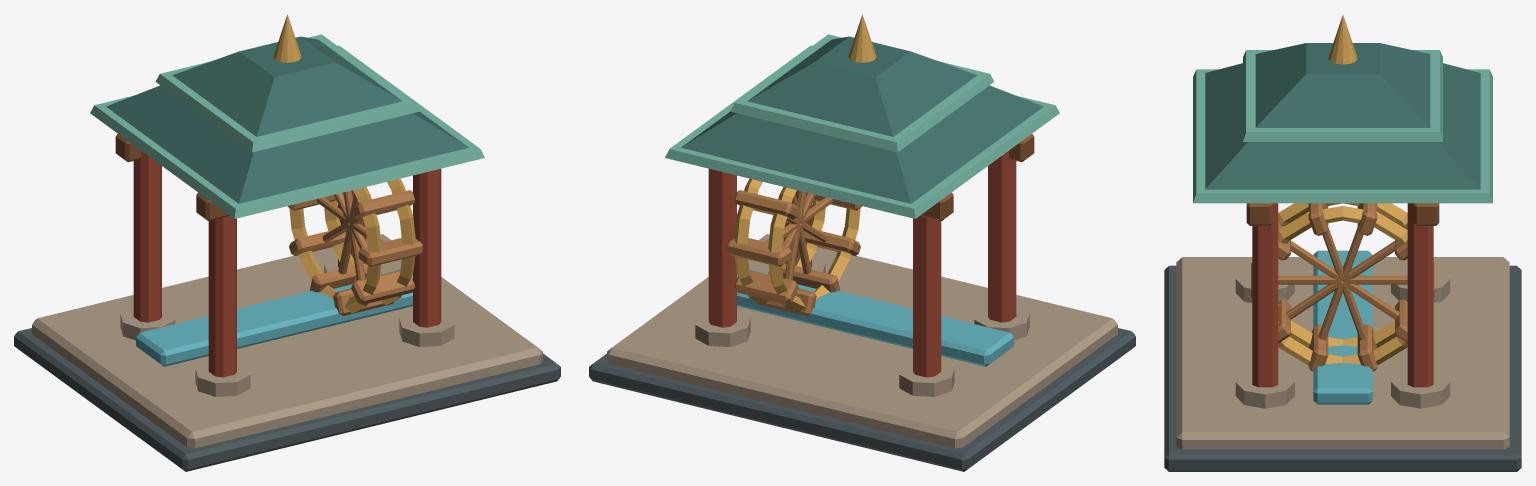
File: terraces.glb
3 views of the same model, side by side, from view 1: azimuth 30°, elevation 25°; view 2: azimuth 150°, elevation 25°; view 3: azimuth 270°, elevation 25° (orthographic). The views are drawn at different scales.
Visible parts, largest first — view 1: terraces-stone, terraces-jade, terraces-roof, terraces-slate, terraces-teal, terraces-oak, terraces-water, terraces-brass.001, terraces-wood, terraces-brass; view 2: terraces-stone, terraces-jade, terraces-roof, terraces-slate, terraces-teal, terraces-oak, terraces-water, terraces-brass.001, terraces-wood, terraces-brass; view 3: terraces-stone, terraces-jade, terraces-slate, terraces-teal, terraces-roof, terraces-oak, terraces-water, terraces-brass.001, terraces-wood, terraces-brass.
Boxes of the visible parts, bbox=[...] form: terraces-stone: bbox=[32, 234, 542, 448]; terraces-jade: bbox=[106, 36, 468, 203]; terraces-roof: bbox=[133, 151, 441, 377]; terraces-slate: bbox=[14, 328, 560, 471]; terraces-teal: bbox=[90, 34, 484, 218]; terraces-oak: bbox=[287, 190, 422, 315]; terraces-water: bbox=[136, 269, 412, 366]; terraces-brass.001: bbox=[289, 178, 415, 313]; terraces-wood: bbox=[115, 134, 229, 220]; terraces-brass: bbox=[273, 14, 301, 62]; terraces-stone: bbox=[607, 234, 1117, 448]; terraces-jade: bbox=[681, 36, 1043, 203]; terraces-roof: bbox=[708, 151, 1016, 377]; terraces-slate: bbox=[589, 328, 1135, 471]; terraces-teal: bbox=[665, 34, 1059, 218]; terraces-oak: bbox=[727, 190, 862, 315]; terraces-water: bbox=[737, 269, 1013, 366]; terraces-brass.001: bbox=[734, 178, 860, 313]; terraces-wood: bbox=[920, 134, 1034, 220]; terraces-brass: bbox=[848, 14, 876, 62]; terraces-stone: bbox=[1176, 257, 1509, 449]; terraces-jade: bbox=[1205, 43, 1480, 189]; terraces-slate: bbox=[1164, 265, 1521, 471]; terraces-teal: bbox=[1193, 50, 1492, 203]; terraces-roof: bbox=[1252, 203, 1433, 387]; terraces-oak: bbox=[1251, 203, 1434, 371]; terraces-water: bbox=[1313, 250, 1372, 404]; terraces-brass.001: bbox=[1278, 203, 1407, 365]; terraces-wood: bbox=[1246, 203, 1439, 225]; terraces-brass: bbox=[1328, 15, 1357, 64].
Size of the model in its own units: 2.45 by 2.17 by 1.93.
